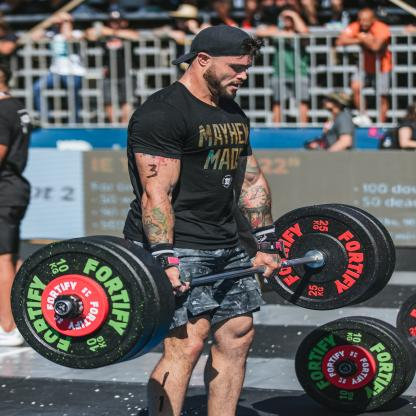barbell: (10, 240, 151, 371), (258, 206, 382, 312), (295, 320, 410, 414)
